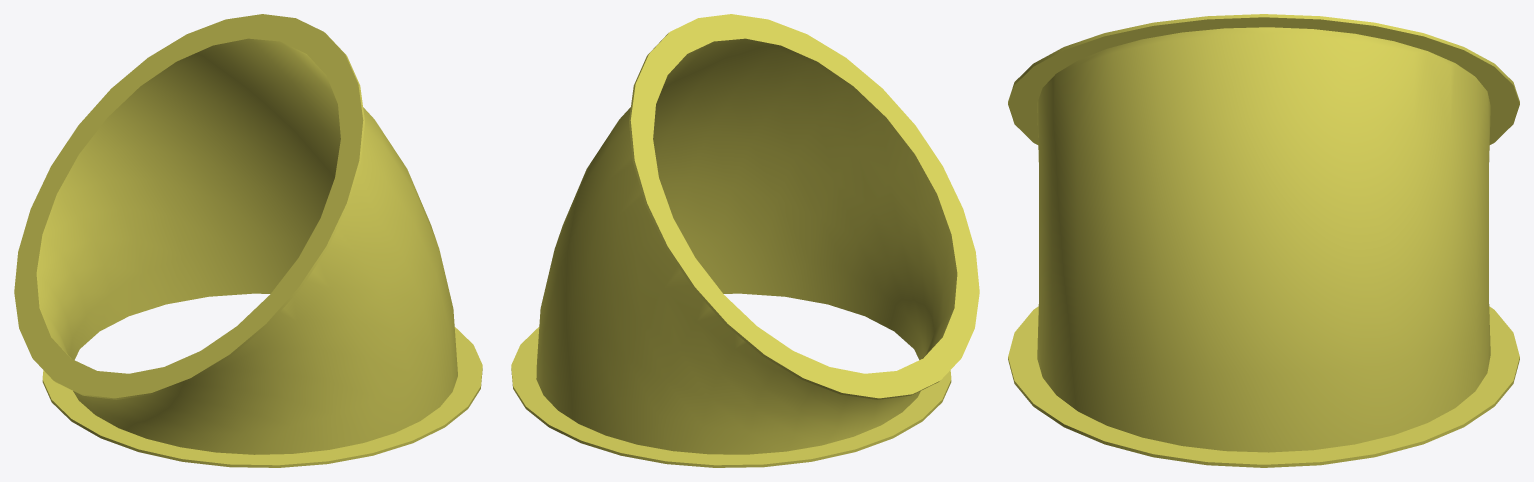
The model's file is model-curved-45.fbx.
3 views of the same model, side by side, from view 1: azimuth 30°, elevation 25°; view 2: azimuth 150°, elevation 25°; view 3: azimuth 270°, elevation 25° (orthographic). The views are drawn at different scales.
Visible parts, largest first — view 1: RŤr-dreje-45 simple; view 2: RŤr-dreje-45 simple; view 3: RŤr-dreje-45 simple.
Boxes of the visible parts, x1,y1,x2,y2 form: RŤr-dreje-45 simple: (14, 14, 482, 467); RŤr-dreje-45 simple: (511, 14, 979, 467); RŤr-dreje-45 simple: (1008, 14, 1519, 467).
Size of the model in its own units: 92.13 by 72.19 by 88.
